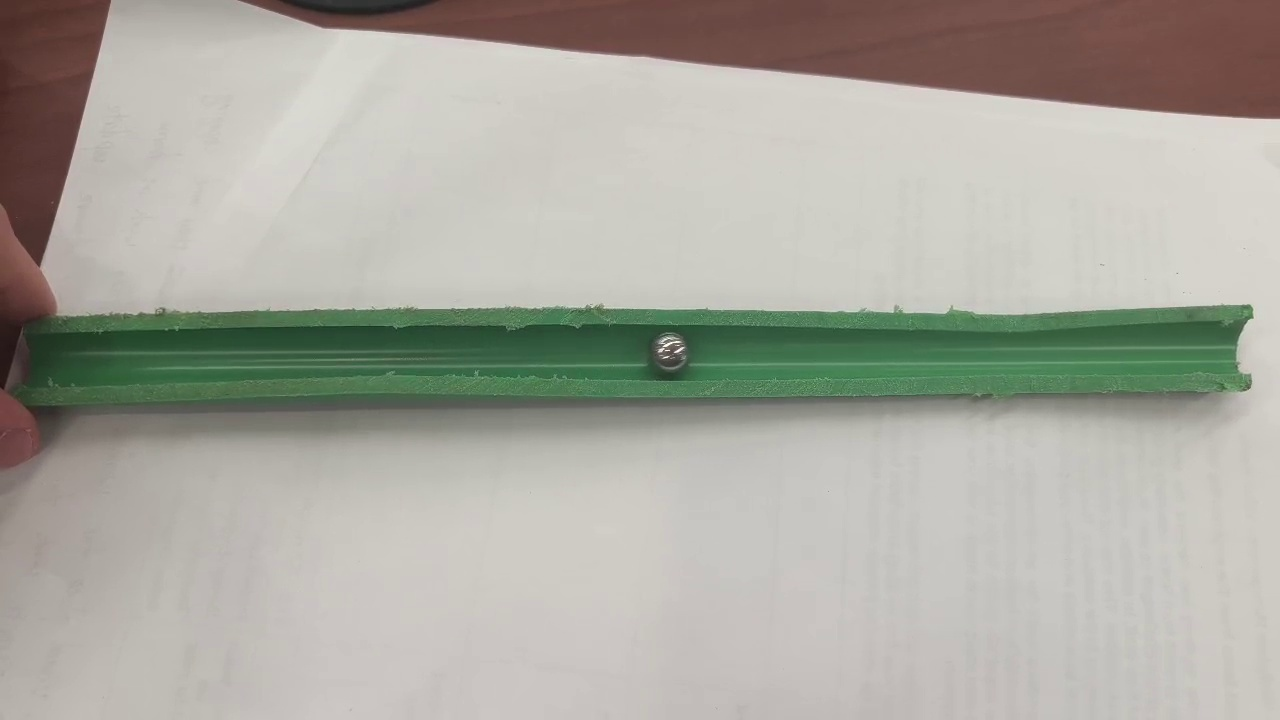ball: (652, 335, 687, 371)
